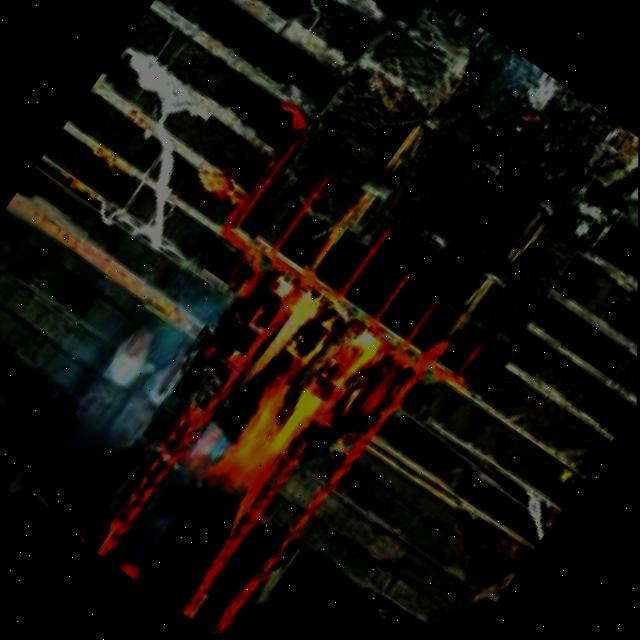Fire: (136, 266, 385, 540)
